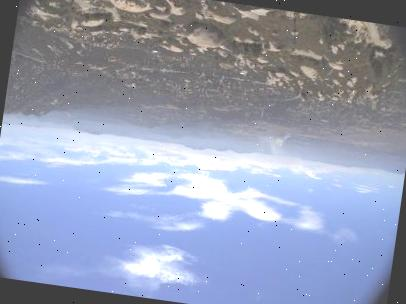smoke: (256, 130, 295, 165)
